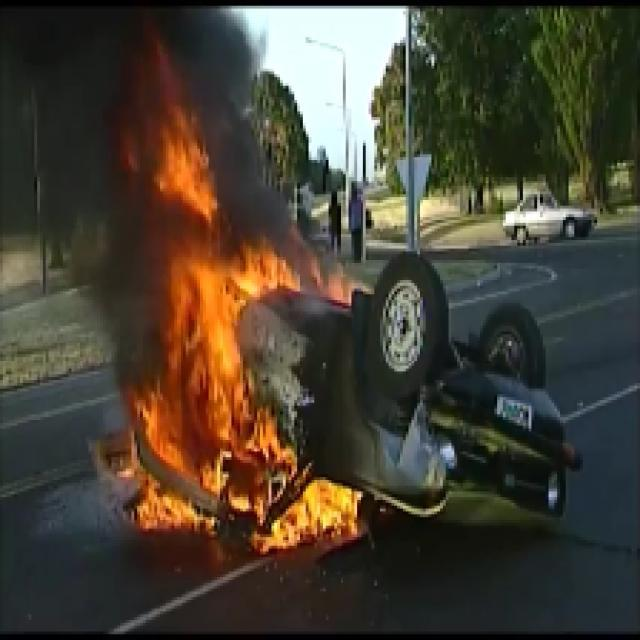Fire: (113, 261, 360, 557)
Smoke: (17, 9, 275, 246)
